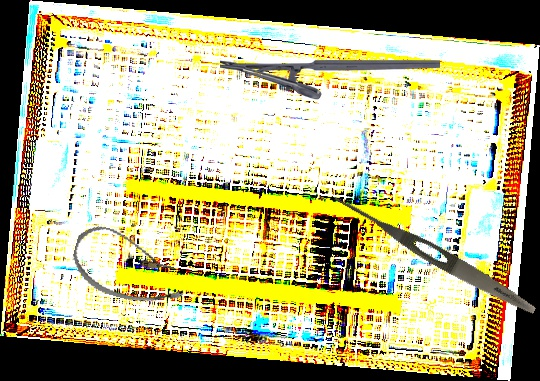Cannula: (65, 221, 195, 313)
Dressing Forceps: (329, 190, 540, 320)
Needle Holder: (220, 59, 440, 100)
